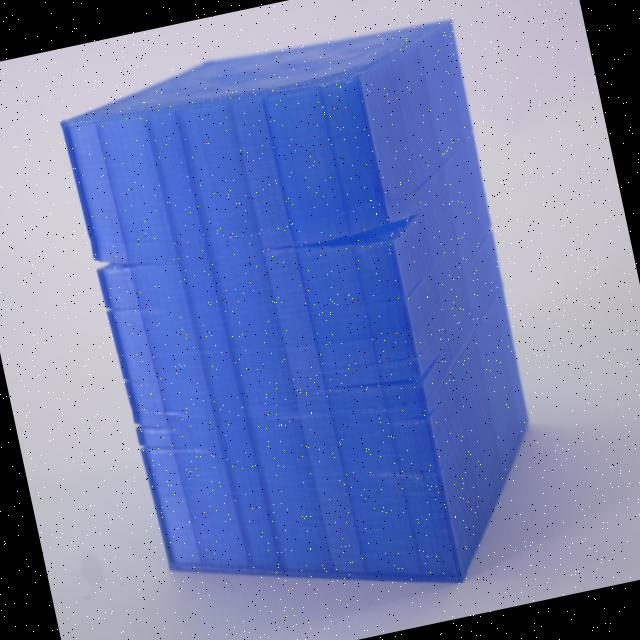cracks: (258, 171, 458, 308), (65, 195, 196, 304)
